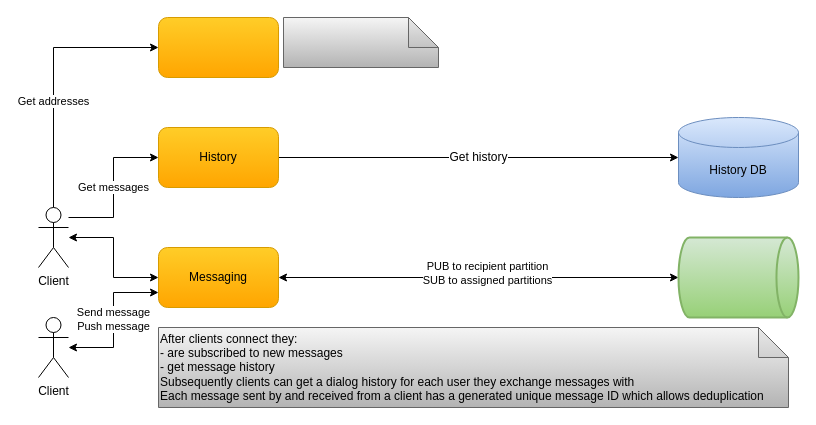
Some shapes in this 816 by 425 pixel diagram are drawn without their labels. Each missing label, with the centre of its shape:
Connect: point (218, 47)
Each client is returned: - the History server - the Messaging server: point (360, 42)
PUB/SUB backplane: point (738, 277)
